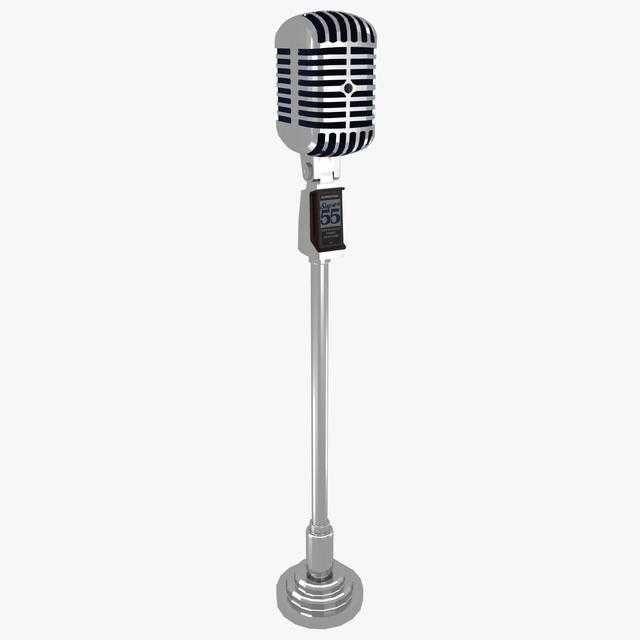microphone: (275, 12, 375, 161)
